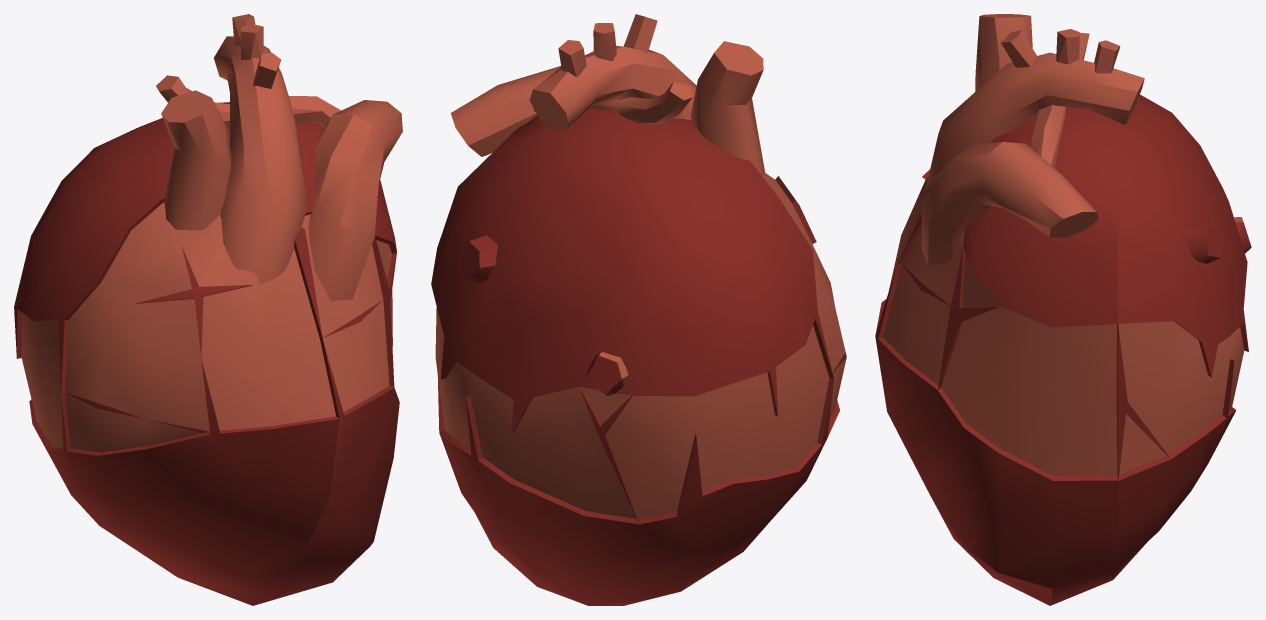
File: hearth.glb
3 renders of one model, left to right at view 1: azimuth 30°, elevation 25°; view 2: azimuth 150°, elevation 25°; view 3: azimuth 270°, elevation 25°, orthographic. The views are drawn at different scales.
Visible parts, largest first — view 1: Cube; view 2: Cube; view 3: Cube.
Part boxes in pixels (left/top/right/bottom): Cube: left=14, top=14, right=402, bottom=605; Cube: left=431, top=14, right=846, bottom=605; Cube: left=875, top=14, right=1251, bottom=605.
Bounding box in the file's own units: 0.4517 × 0.6933 × 0.4254.
